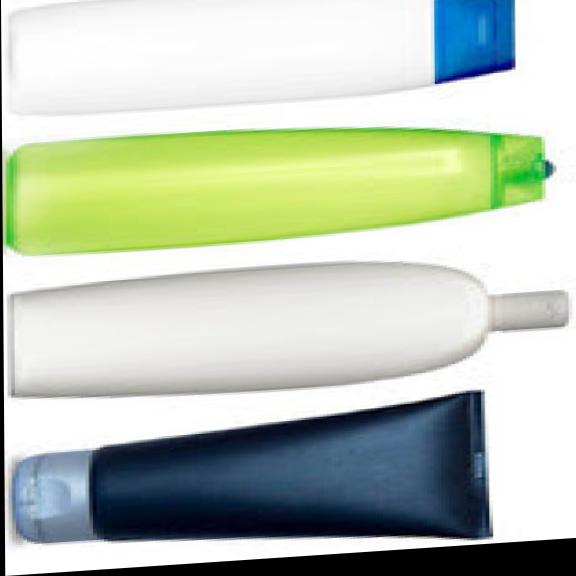Plastik: (9, 130, 540, 255), (16, 264, 477, 394)
